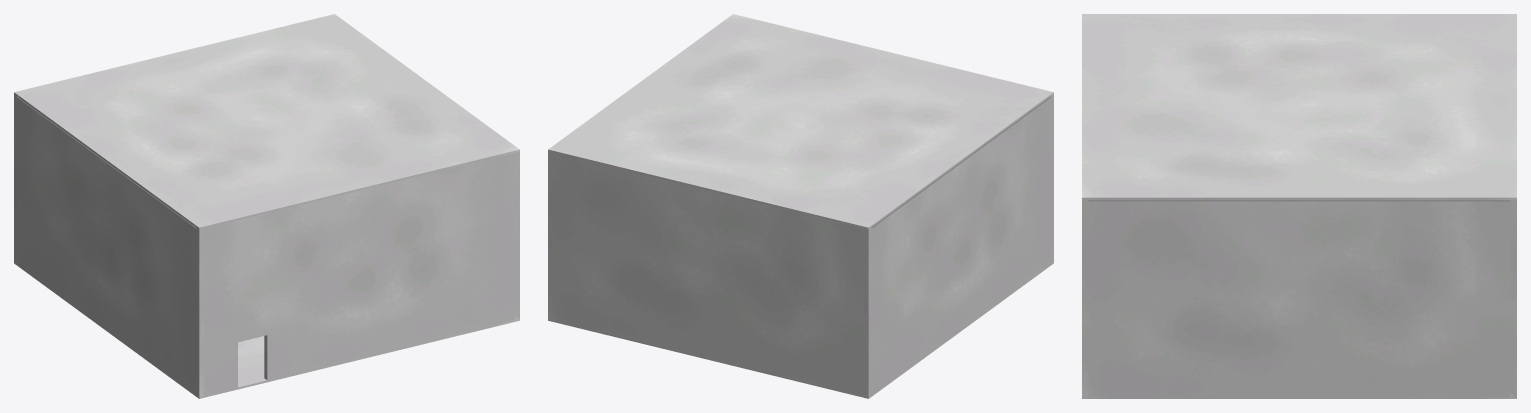
File: ControlCenter.fbx
3 views of the same model, side by side, from view 1: azimuth 30°, elevation 25°; view 2: azimuth 150°, elevation 25°; view 3: azimuth 270°, elevation 25° (orthographic). The views are drawn at different scales.
Visible parts, largest first — view 1: node_id10; view 2: node_id10; view 3: node_id10 (×2).
Part boxes in pixels (x1,y1,x2,y2): node_id10: (14,14,519,398); node_id10: (548,14,1053,398); node_id10 (×2): (1082,14,1516,398).
Bounding box in the file's own units: 0.512 × 0.2613 × 0.512.
Materials: 5 (4 with a texture image).
